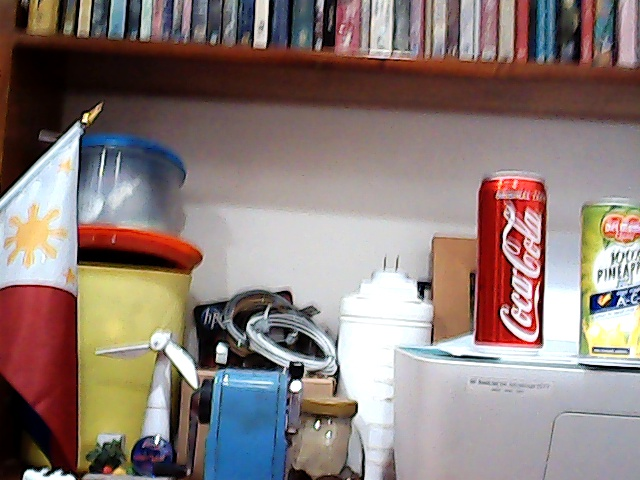Cola: (473, 166, 554, 361)
Pine Juice: (571, 192, 640, 375)
